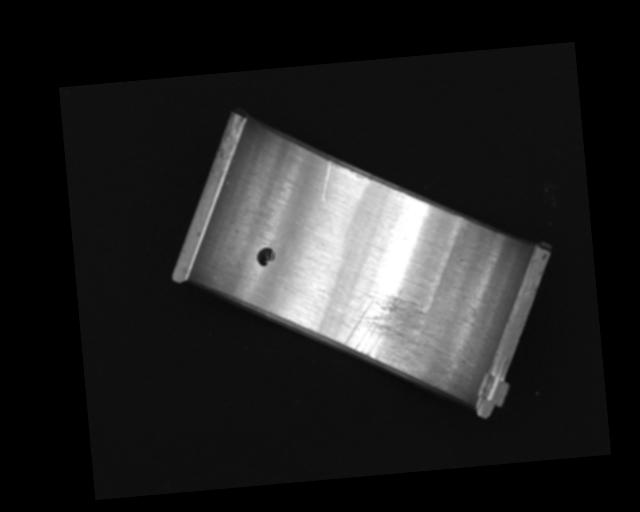blot: (255, 246, 276, 267)
nick: (318, 161, 335, 201)
scratch: (340, 285, 446, 396)
